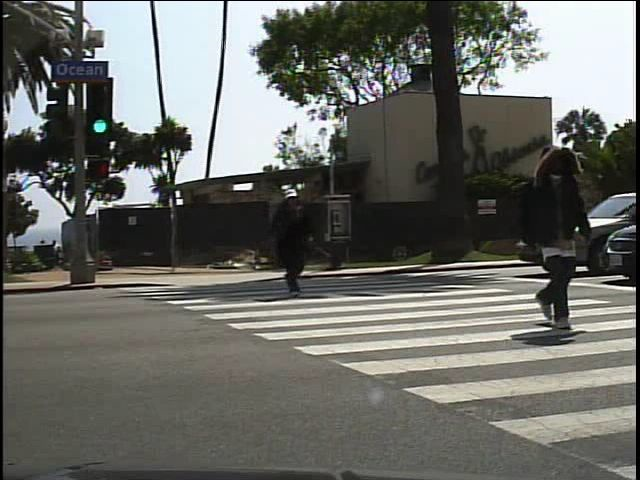person: (513, 139, 606, 345), (267, 182, 321, 299)
